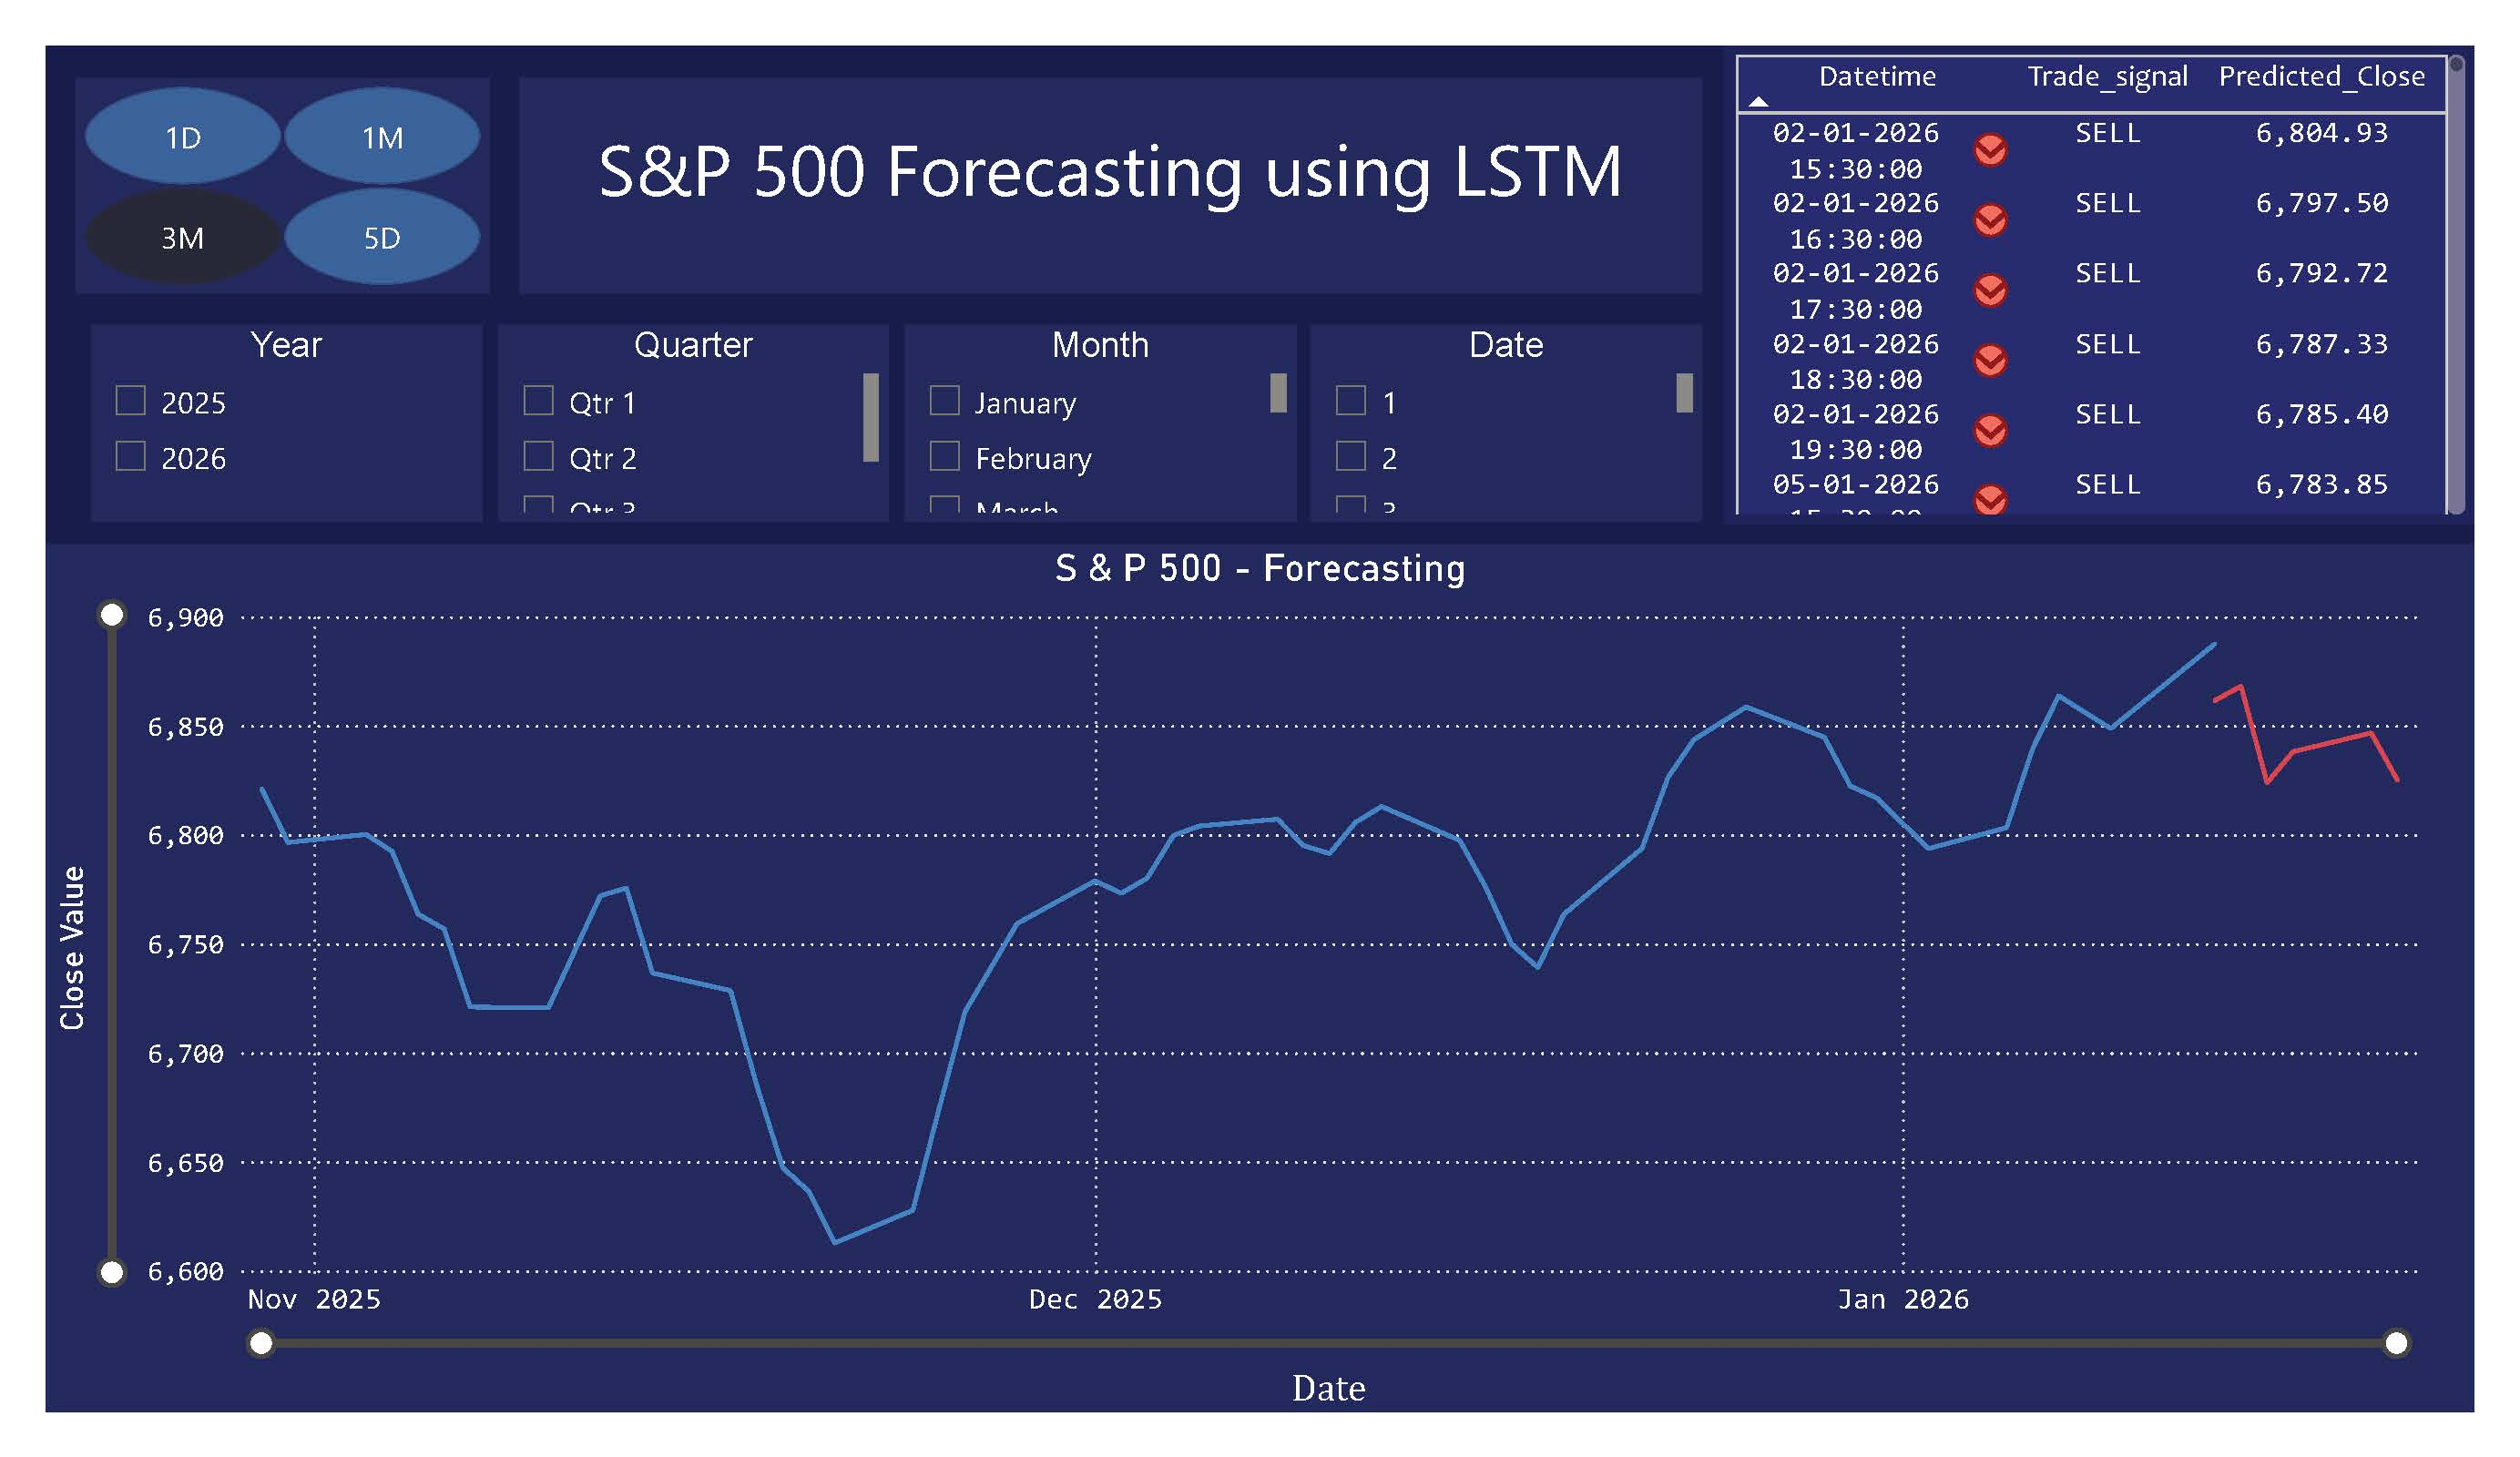

This screenshot's page, from the dashboard's own definition file:
{"tool":"powerbi","page":{"name":"S&P500 using LSTM","canvas":[1280,720],"ordinal":0},"visuals":[{"type":"lineChart","title":"S & P 500 - Forecasting ","fields":{"Category":["LSTM_Prediction.Datetime.Variation.Date Hierarchy.Year","LSTM_Prediction.Datetime.Variation.Date Hierarchy.Month","LSTM_Prediction.Datetime.Variation.Date Hierarchy.Day"],"Series":["LSTM_Prediction.is_forecast"],"Y":["Avg(LSTM_Prediction.Predicted_Close)"]},"box":[0,262.9,1280,457.1],"z":0},{"type":"advancedSlicerVisual","fields":{"Values":["Period1.Period"]},"box":[15.7,17.1,218.6,114.3],"z":1000},{"type":"slicer","title":"Year","fields":{"Values":["LSTM_Prediction.Datetime.Variation.Date Hierarchy.Year"]},"box":[24.3,147.1,205.7,104.3],"z":2000},{"type":"textbox","box":[250,17.1,622.9,114.3],"z":3000},{"type":"slicer","title":"Month","fields":{"Values":["LSTM_Prediction.Datetime.Variation.Date Hierarchy.Month"]},"box":[452.9,147.1,205.7,104.3],"z":4000},{"type":"slicer","title":"Date","fields":{"Values":["LSTM_Prediction.Datetime.Variation.Date Hierarchy.Day"]},"box":[667.1,147.1,205.7,104.3],"z":5000},{"type":"tableEx","fields":{"Values":["LSTM_Prediction.Datetime","LSTM_Prediction.trade_signal","LSTM_Prediction.Predicted_Close"]},"box":[884.9,0,395.3,252.3],"z":6000},{"type":"slicer","title":"Quarter","fields":{"Values":["LSTM_Prediction.Datetime.Variation.Date Hierarchy.Quarter"]},"box":[238.6,147.1,205.7,104.3],"z":7000}]}

Visuals, with their boxes in screenshot pixels (x1, y1, x2, y2):
"S & P 500 - Forecasting " lineChart: box=[46, 545, 2474, 1411]
advancedSlicerVisual - Period1.Period: box=[76, 78, 490, 295]
"Year" slicer: box=[92, 324, 482, 523]
textbox: box=[520, 78, 1702, 295]
"Month" slicer: box=[905, 324, 1295, 523]
"Date" slicer: box=[1311, 324, 1702, 523]
tableEx - LSTM_Prediction.Datetime x LSTM_Prediction.trade_signal: box=[1725, 46, 2474, 525]
"Quarter" slicer: box=[498, 324, 889, 523]
